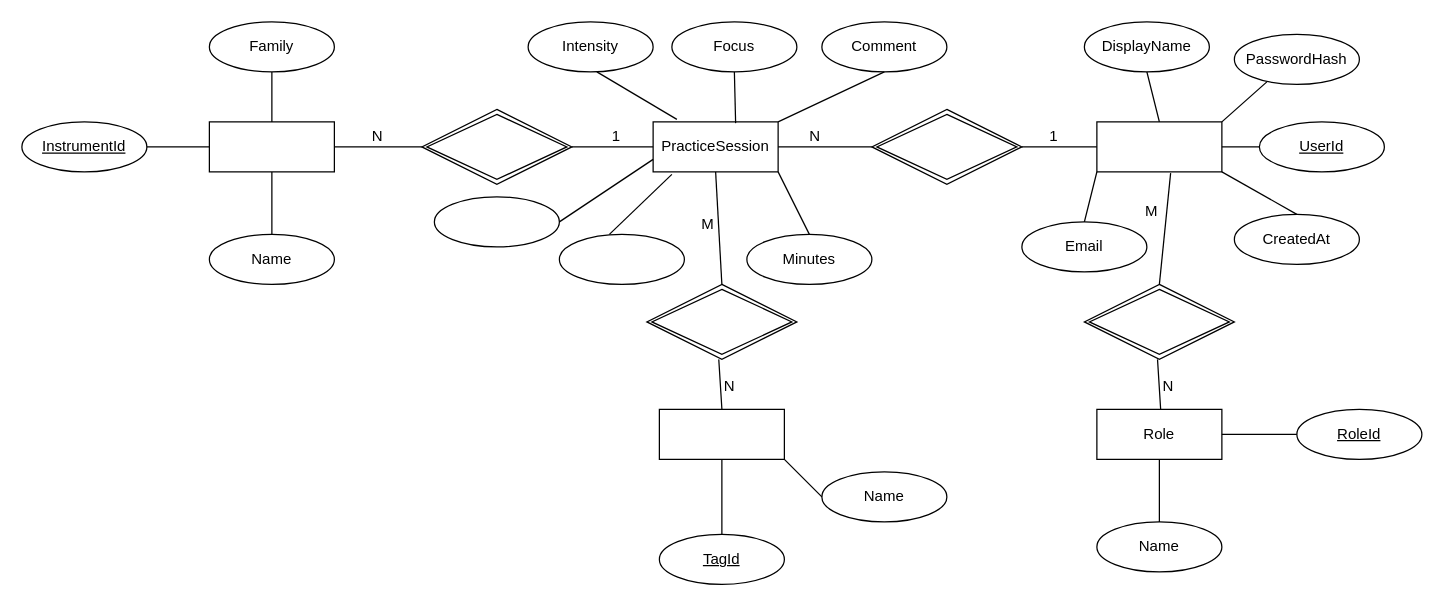
This 1444x606 diagram has some shape labels left out. The centre of each missing label's shape, as x and y in pixels:
Använder: (x=496, y=146)
Har: (x=946, y=146)
Instruments: (x=271, y=146)
PracticeDate: (x=621, y=258)
SessionId: (x=496, y=221)
Tag: (x=721, y=433)
Taggad med: (x=721, y=321)
User: (x=1159, y=146)
Är tilldelad: (x=1158, y=321)
